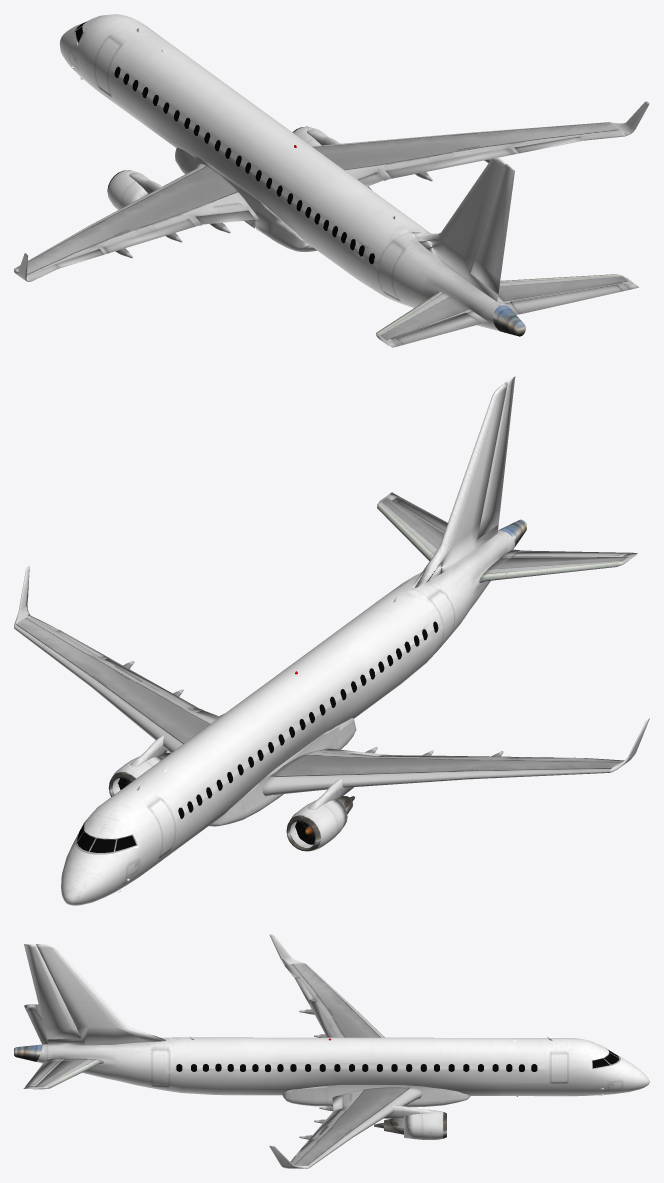
3 views of the same model, one above another, from view 1: azimuth 30°, elevation 25°; view 2: azimuth 150°, elevation 25°; view 3: azimuth 270°, elevation 25° (orthographic). The views are drawn at different scales.
Visible parts, largest first — view 1: geardoor_b_r, hstab, cylinder; view 2: geardoor_b_r, hstab, cylinder; view 3: geardoor_b_r, hstab, cylinder.
Boxes of the visible parts, <box> form: geardoor_b_r: <box>14,14,649,331</box>; hstab: <box>15,23,638,347</box>; cylinder: <box>75,21,374,264</box>; geardoor_b_r: <box>14,376,649,905</box>; hstab: <box>14,492,637,854</box>; cylinder: <box>77,621,438,852</box>; geardoor_b_r: <box>24,934,649,1168</box>; hstab: <box>14,963,620,1167</box>; cylinder: <box>176,1049,618,1071</box>.
Size of the model in its own units: 28.2 by 10.22 by 35.83.
Materials: 7 (4 with a texture image).
